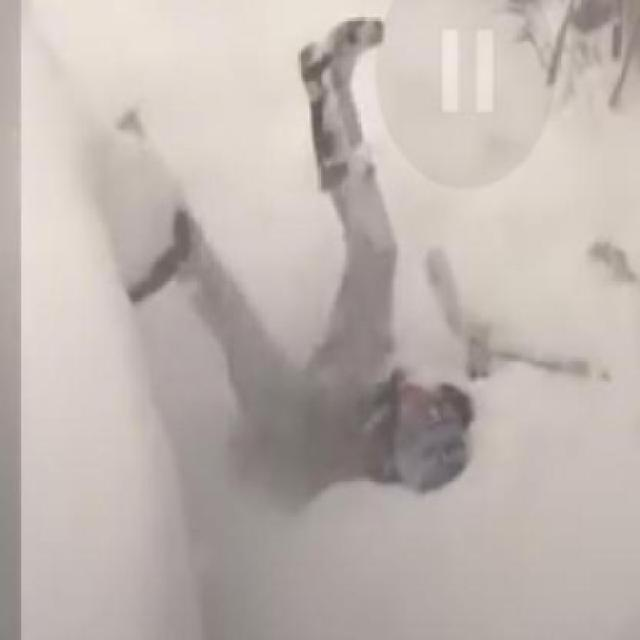fall: (119, 20, 472, 508)
